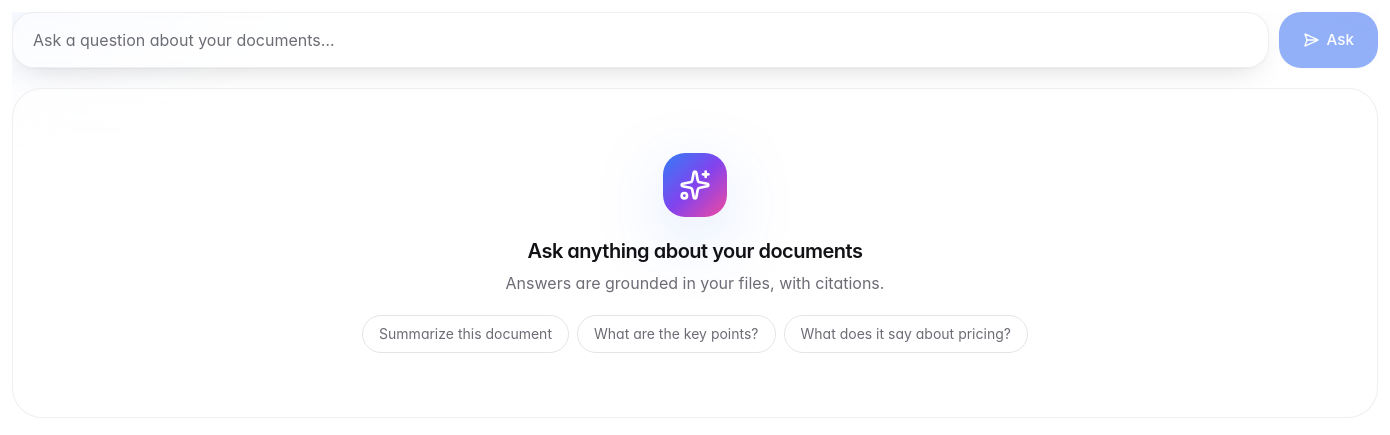
Test: ChatView › streams the answer token-by-token and renders citations
The image size is (1390, 435).
Type "refund policy?" into the field with placeholder "Ask a question about your documents…" at (640, 40), box [12,12,1269,68]
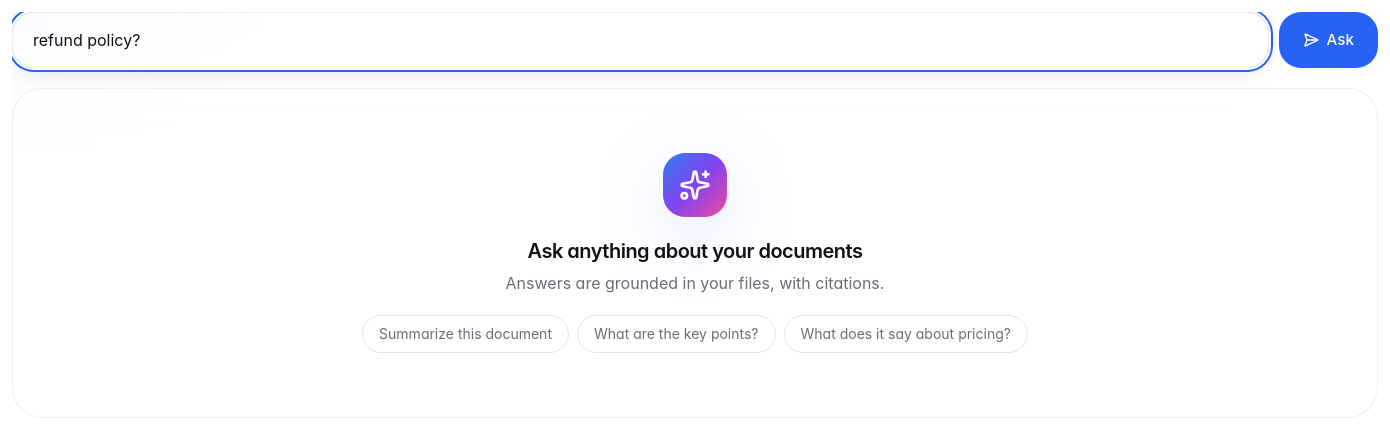
Click the button "Ask" at (1328, 40), box [1279,12,1378,68]
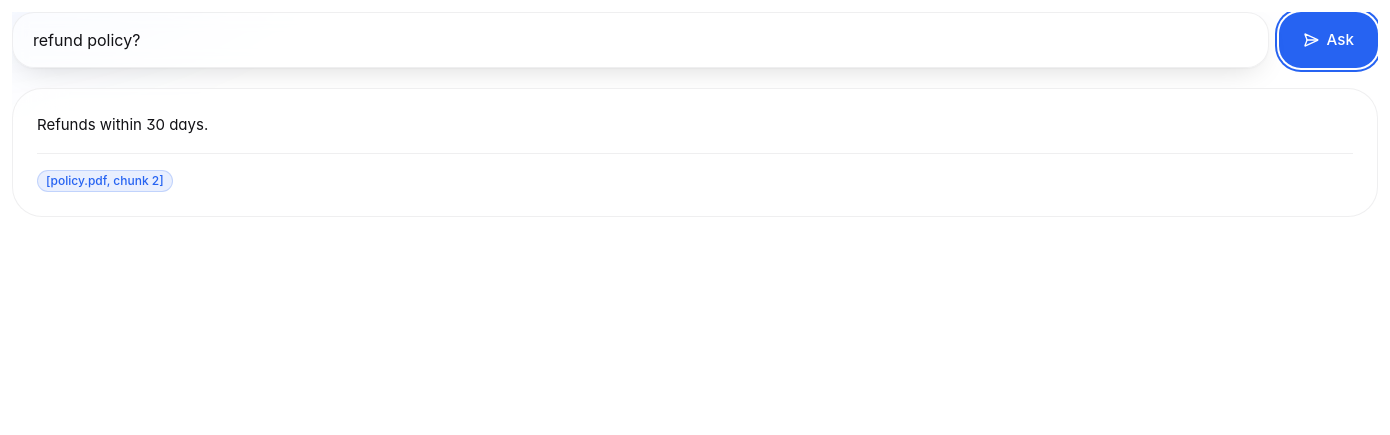
Expected: the text "Refunds within 30 days." is shown, [37,115,208,134]
Expected: the button "[policy.pdf, chunk 2]" is shown, [37,170,173,192]
